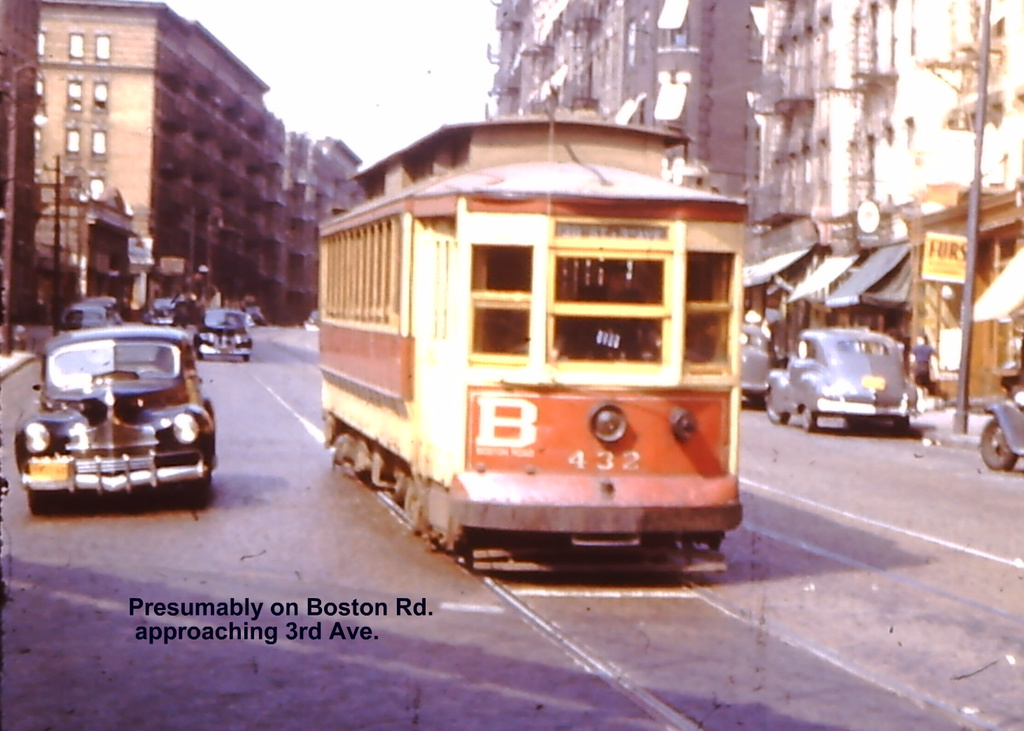Car: (13, 311, 216, 507), (760, 331, 917, 430), (973, 382, 1023, 475), (193, 306, 254, 370), (733, 324, 784, 395), (55, 293, 128, 332), (138, 290, 181, 323)
